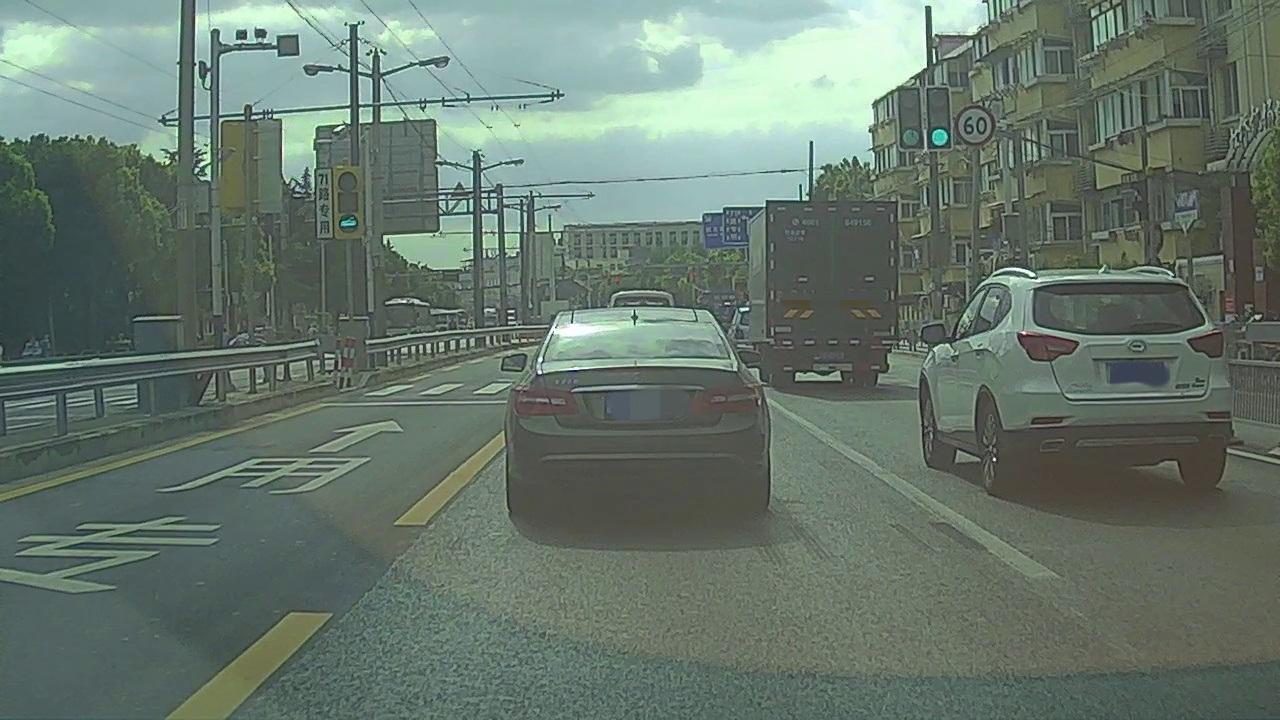traffic_light: (896, 87, 922, 150), (926, 88, 950, 150)
